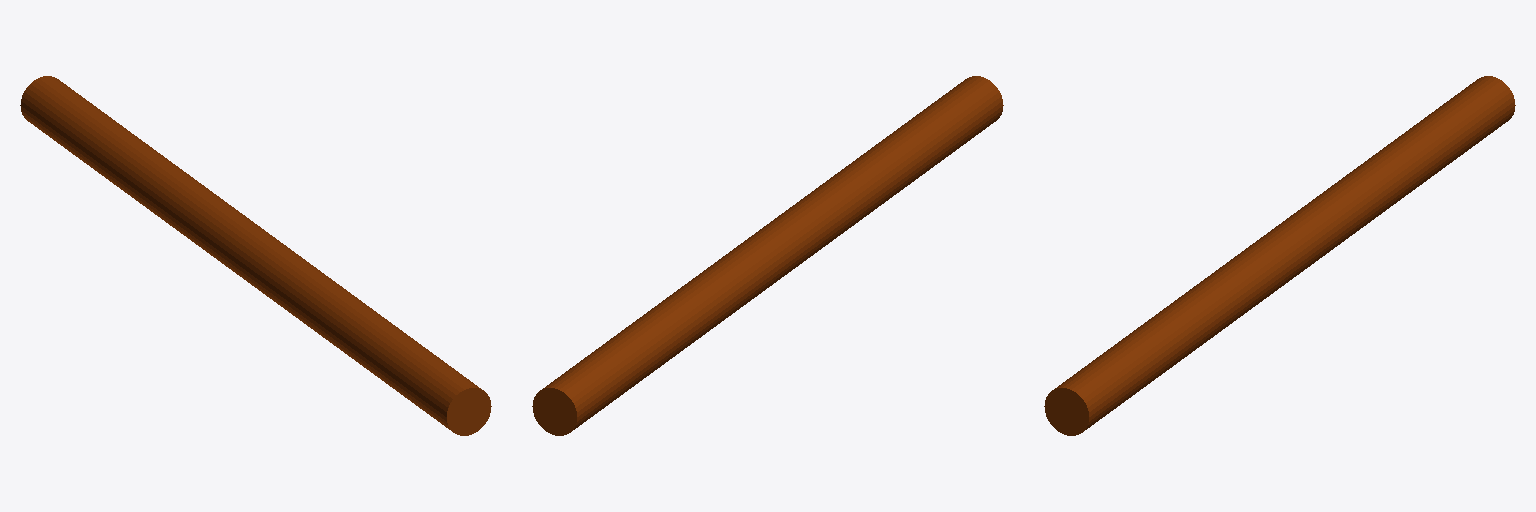
robot.urdf — cylinder:
<?xml version="1.0" ?>
<!-- =================================================================================== -->
<!-- |    This document was autogenerated by xacro from cylinder.xacro                 | -->
<!-- |    EDITING THIS FILE BY HAND IS NOT RECOMMENDED                                 | -->
<!-- =================================================================================== -->
<robot name="cylinder">
  <link name="world"/>
  <link name="base">
    <visual>
      <origin rpy="1.57079633 0 0" xyz="0 0 0"/>
      <geometry>
        <cylinder length="7.07106781185" radius="0.215"/>
      </geometry>
      <material name="cylinder_material">
        <color rgba="0.545 0.271 0.075 1.0"/>
        <texture filename="../textures/tree_bark.jpg"/>
      </material>
    </visual>
    <collision>
      <origin rpy="1.57079633 0 0" xyz="0 0 0"/>
      <geometry>
        <cylinder length="7.07106781185" radius="0.215"/>
      </geometry>
    </collision>
    <inertial>
      <origin rpy="0 0 0" xyz="0 0 0"/>
      <mass value="1"/>
      <inertia ixx="4.178222916648428" ixy="0.0" ixz="0.0" iyy="4.178222916648428" iyz="0.0" izz="24.999999999890573"/>
    </inertial>
  </link>
  <joint name="base_joint" type="fixed">
    <parent link="world"/>
    <child link="base"/>
    <origin rpy="0 0 0" xyz="0.0 0.0 0.0"/>
  </joint>
</robot>

--- What the picture shows (computed from the rendered views, not written in the file) ---
Views: 3 orthographic renders of the robot side by side, from view 1: azimuth 30°, elevation 25°; view 2: azimuth 150°, elevation 25°; view 3: azimuth 330°, elevation 25°.
Robot: cylinder — 2 links, 1 joints (1 fixed); root link world; default pose: every joint at zero.
Links seen in each view (by area): view 1: base; view 2: base; view 3: base.
Link boxes in pixels (x1,y1,x2,y2): base: (20,76,491,435); base: (532,76,1003,435); base: (1044,76,1515,435).
Bounding box of the posed robot: 0.43 × 7.07 × 0.43 m (x, y, z).
Geometry: primitives only (box / cylinder / sphere), no mesh files.
